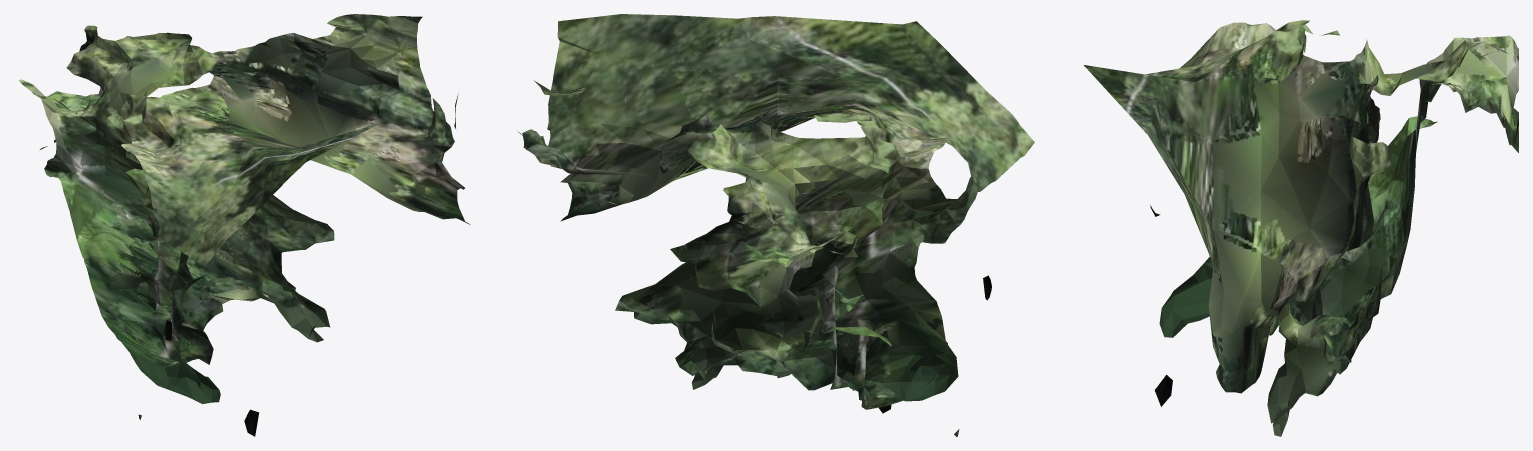
3 views of the same model, side by side, from view 1: azimuth 30°, elevation 25°; view 2: azimuth 150°, elevation 25°; view 3: azimuth 270°, elevation 25° (orthographic). The views are drawn at different scales.
Bounding box in the file's own units: 26.11 × 22.79 × 26.11.
5 materials, 5 textured.
